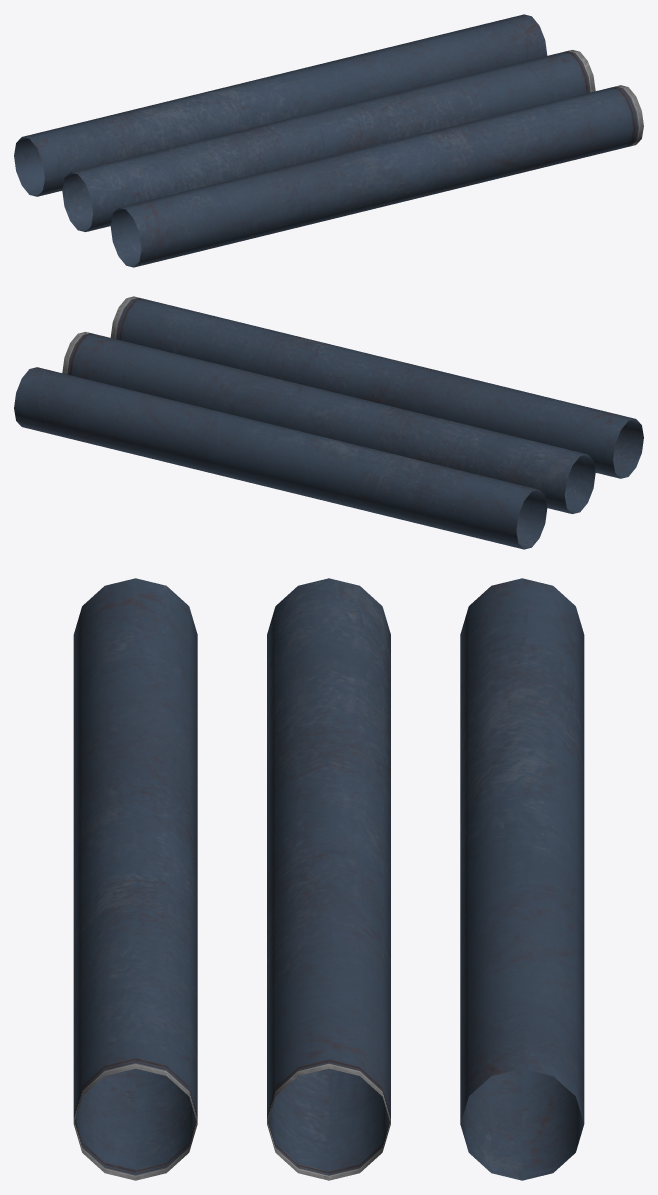
Rendered from Pipe3_C_L0.fbx.
3 views of the same model, one above another, from view 1: azimuth 30°, elevation 25°; view 2: azimuth 150°, elevation 25°; view 3: azimuth 270°, elevation 25° (orthographic). The views are drawn at different scales.
Parts seen in each view (by area): view 1: PIpe3_C_L0; view 2: PIpe3_C_L0; view 3: PIpe3_C_L0.
Part boxes in pixels (x1=…): PIpe3_C_L0: x1=14, y1=14, x2=643, y2=267; PIpe3_C_L0: x1=14, y1=296, x2=643, y2=549; PIpe3_C_L0: x1=73, y1=578, x2=584, y2=1180.
Bounding box in the file's own units: 100 × 10.66 × 43.99.
